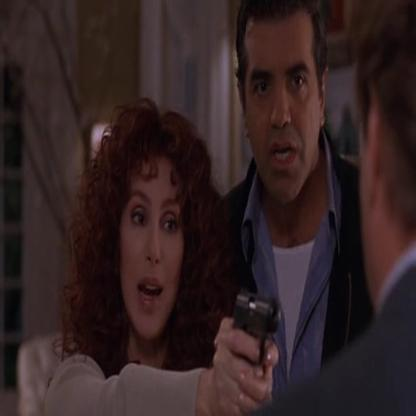gun: (238, 275, 286, 387)
